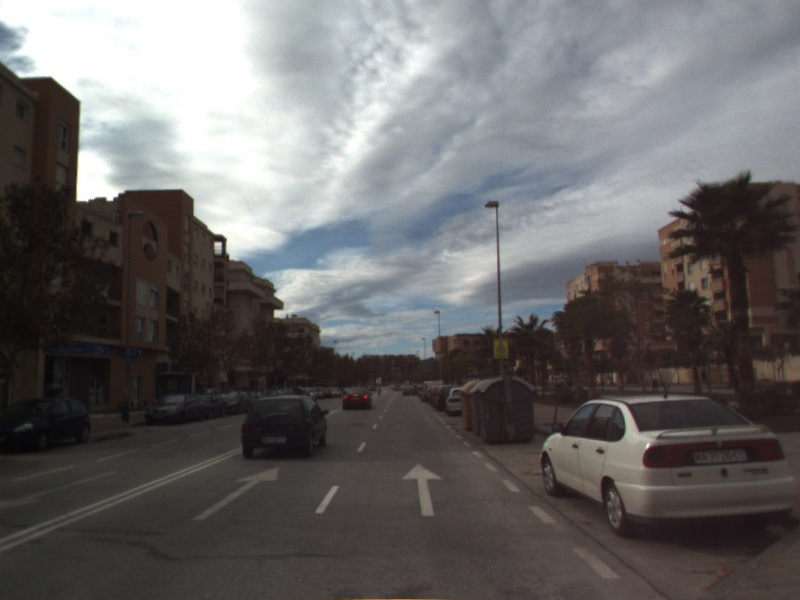STRAIGHT: (190, 464, 281, 522), (399, 461, 446, 519)
